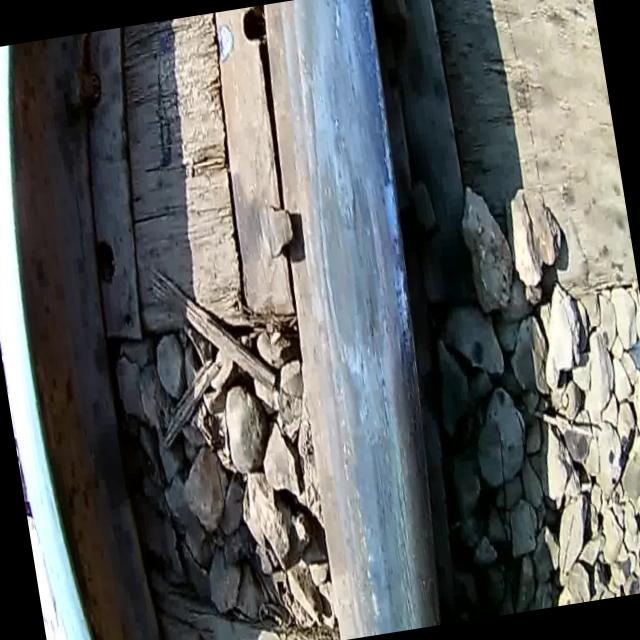Squats: (218, 0, 488, 640)
